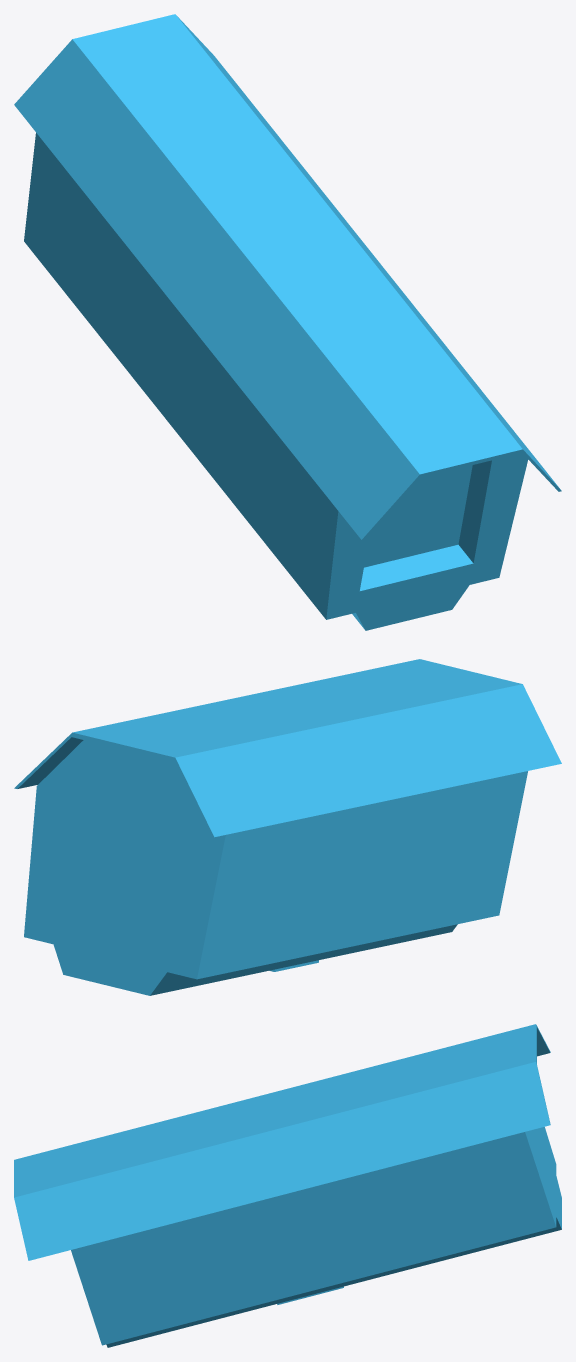
3 renders of one model, top to bottom at view 1: azimuth 30°, elevation 25°; view 2: azimuth 150°, elevation 25°; view 3: azimuth 270°, elevation 25°, orthographic. The views are drawn at different scales.
Bounding box in the file's own units: 372 × 683 × 1173.
